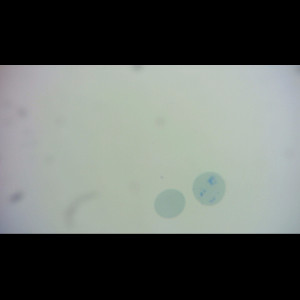aggregate reticulocyte: (191, 172, 226, 207)
erythrocyte: (152, 188, 187, 219)
